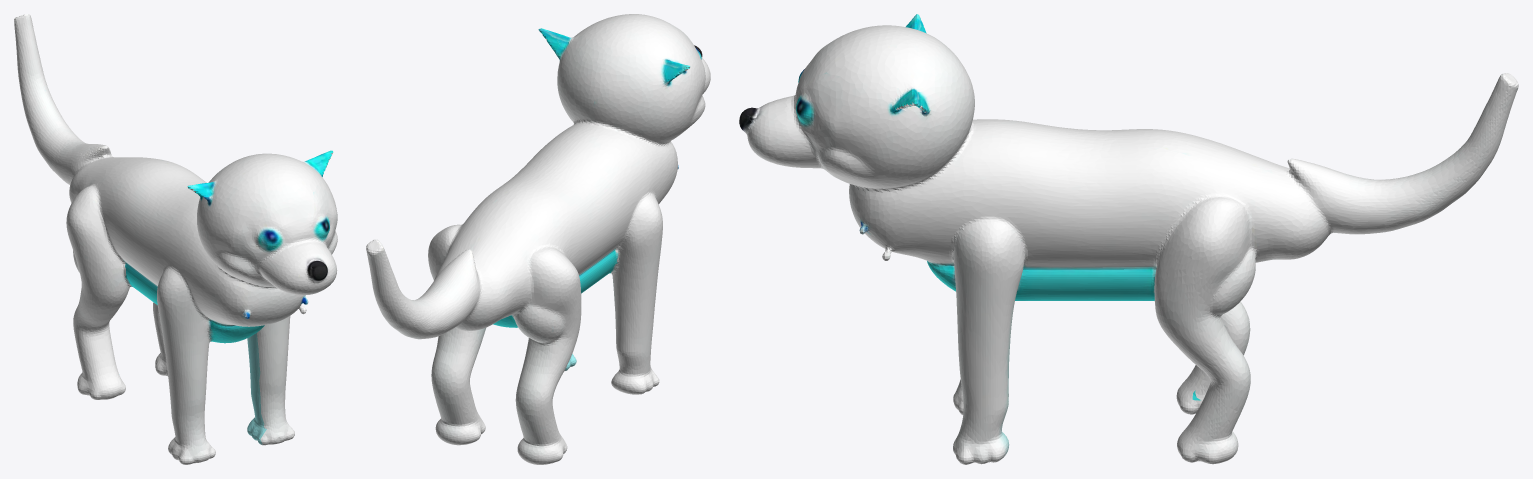
The model's file is creature-129.glb.
The picture shows the model from 3 angles, left to right: view 1: azimuth 30°, elevation 25°; view 2: azimuth 150°, elevation 25°; view 3: azimuth 270°, elevation 25°; orthographic projection. The views are drawn at different scales.
Parts seen in each view (by area): view 1: tmpxd7f03p9.ply; view 2: tmpxd7f03p9.ply; view 3: tmpxd7f03p9.ply.
Boxes of the visible parts, bbox=[...] form: tmpxd7f03p9.ply: bbox=[14, 14, 337, 464]; tmpxd7f03p9.ply: bbox=[366, 14, 710, 464]; tmpxd7f03p9.ply: bbox=[739, 14, 1518, 464].
Bounding box in the file's own units: 0.5591 × 1.13 × 1.99.
1 material, 1 textured.
